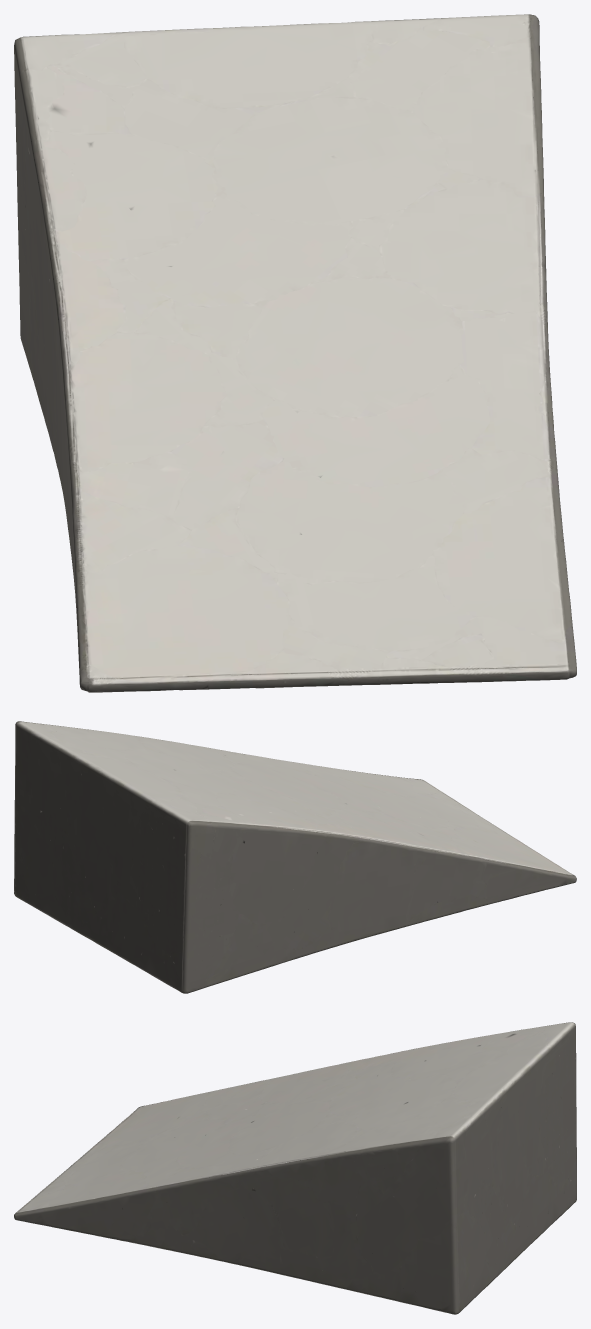
File: model-27-ramp-wide.glb
3 renders of one model, top to bottom at view 1: azimuth 30°, elevation 25°; view 2: azimuth 150°, elevation 25°; view 3: azimuth 270°, elevation 25°, orthographic. The views are drawn at different scales.
Visible parts, largest first — view 1: node_0; view 2: node_0; view 3: node_0.
Part boxes in pixels (left/top/right/bottom): node_0: left=14, top=14, right=576, bottom=692; node_0: left=14, top=721, right=576, bottom=993; node_0: left=14, top=1022, right=576, bottom=1314.
Bounding box in the file's own units: 0.9526 × 0.387 × 1.11.
Materials: 1 (1 with a texture image).
